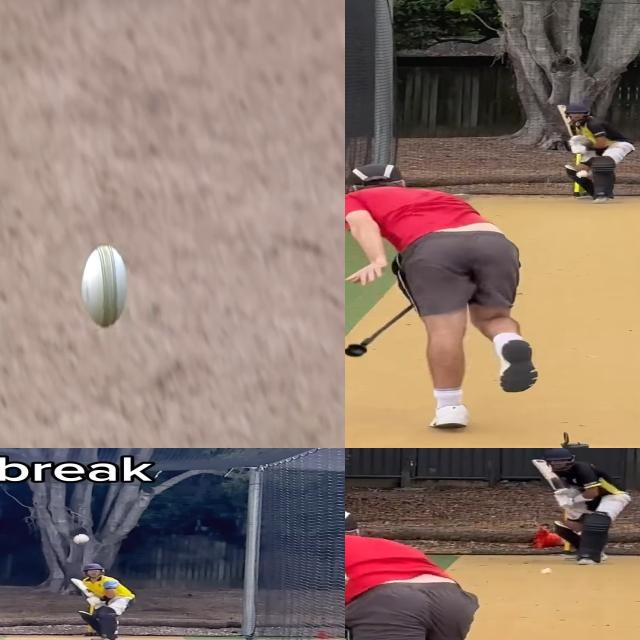Cricket ball: (80, 243, 130, 333), (575, 168, 593, 182), (73, 534, 90, 545), (540, 568, 553, 575)
